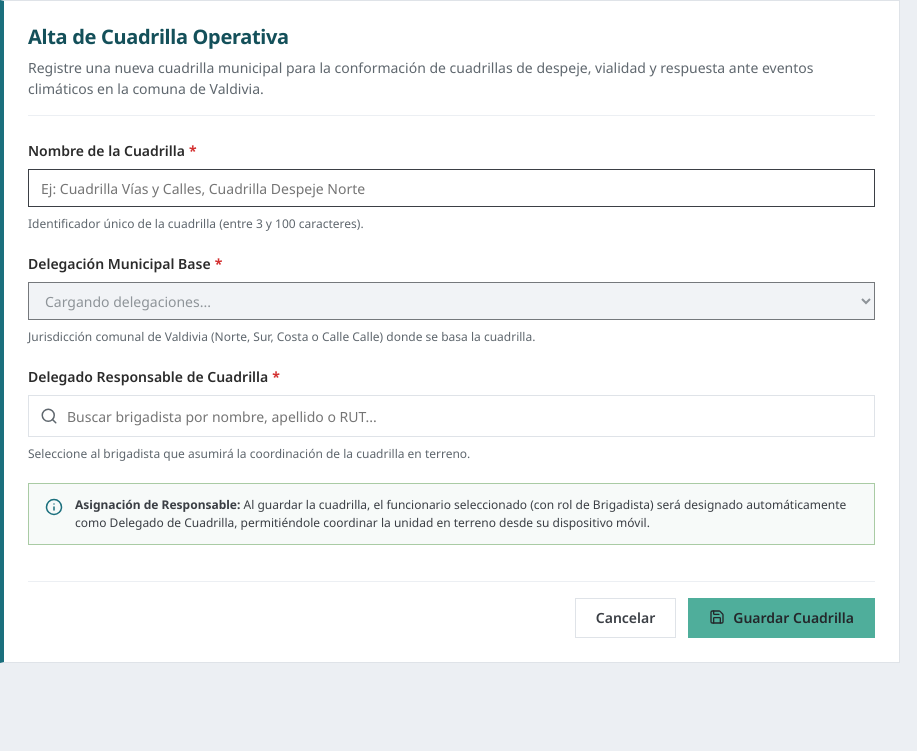
Test case: CuadrillaForm (H79) › debe completar el flujo exitoso y mostrar la pantalla de confirmación con datos
Note: Ingresar nombre
Step 1. Type "Cuadrilla Vías y Calles" into the field labelled "Nombre de la Cuadrilla *" → point(452, 188), box [28, 169, 875, 207]
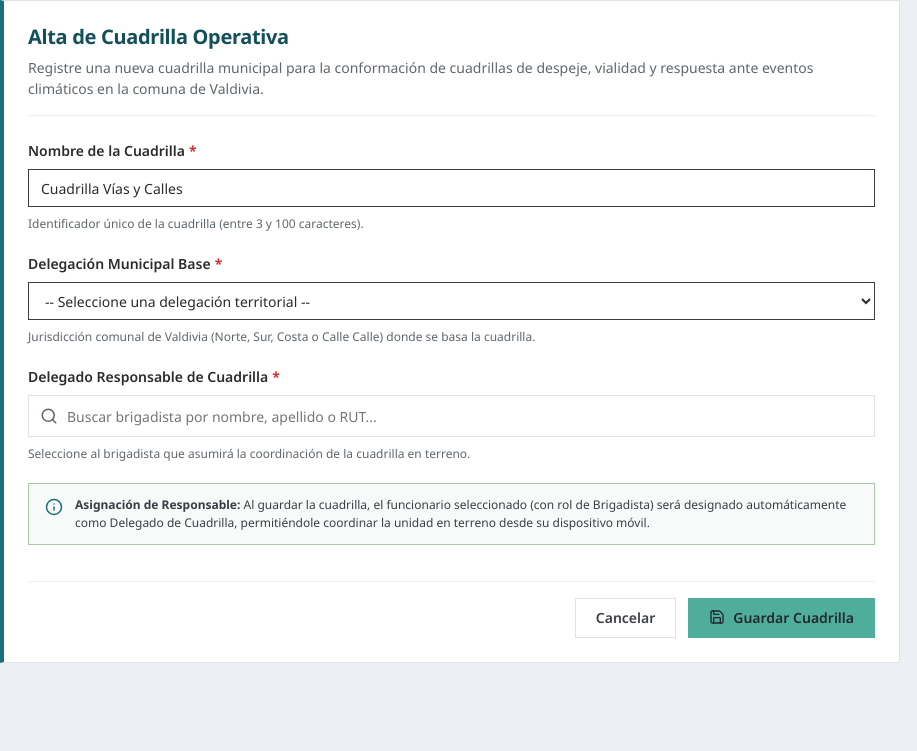
Step 2. Select "Calle Calle" in the dropdown labelled "Delegación Municipal Base *" → point(452, 301), box [28, 282, 875, 320]
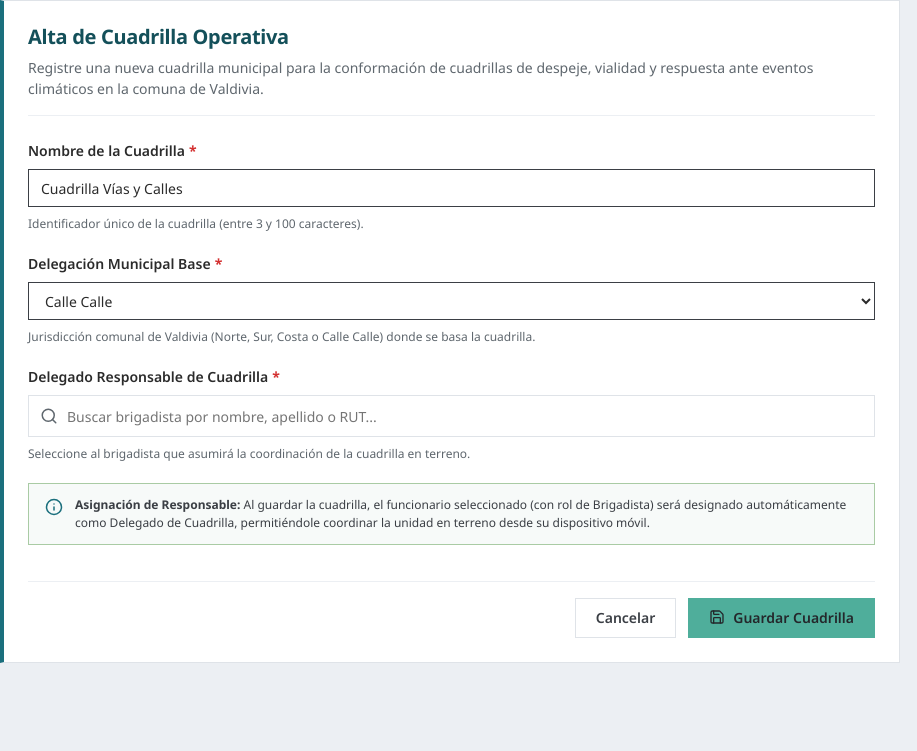
Note: Buscar y seleccionar delegado
Step 3. Type "Carlos" into the field with placeholder "Buscar brigadista por nombre, apellido o RUT..." → point(452, 416), box [28, 395, 875, 437]
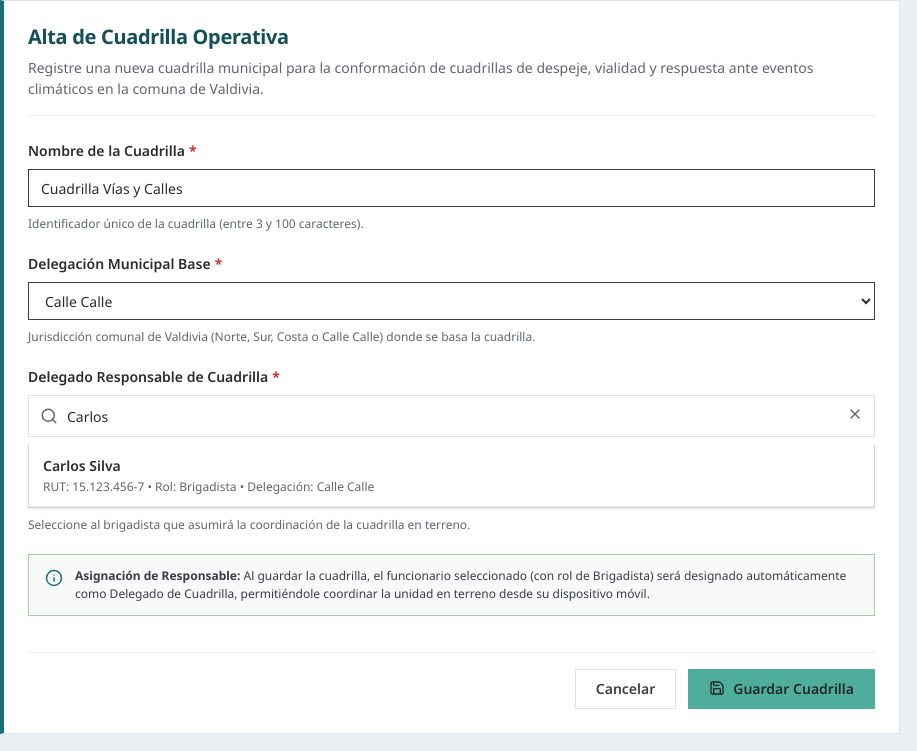
Step 4. Click the text "Carlos Silva" → point(82, 466), box [43, 456, 121, 475]
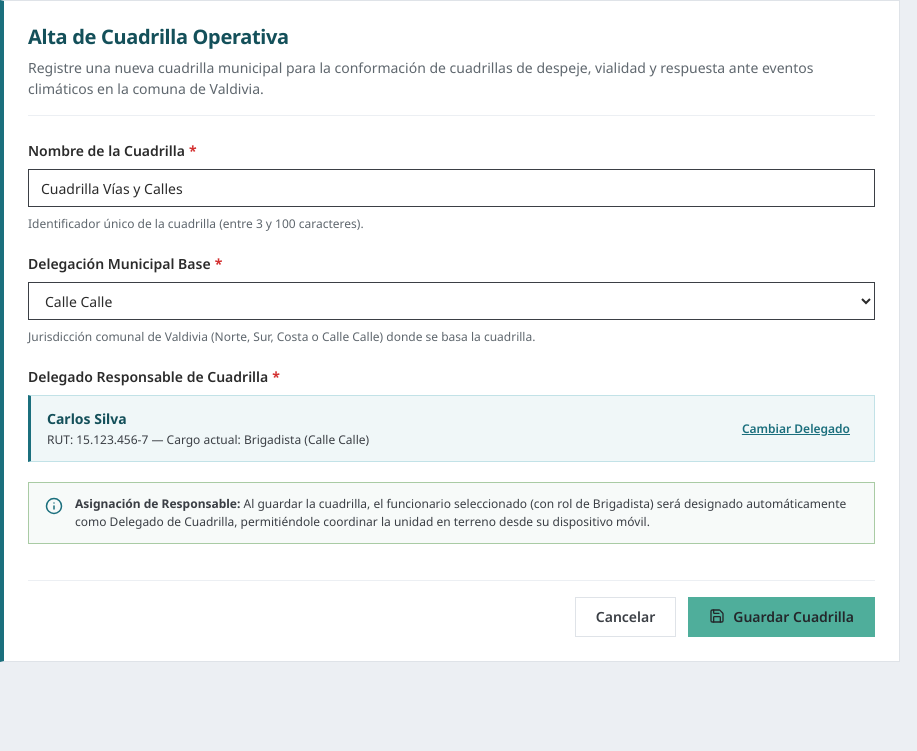
Note: Enviar formulario
Step 5. Click the button "Guardar Cuadrilla" → point(782, 617), box [688, 597, 875, 637]
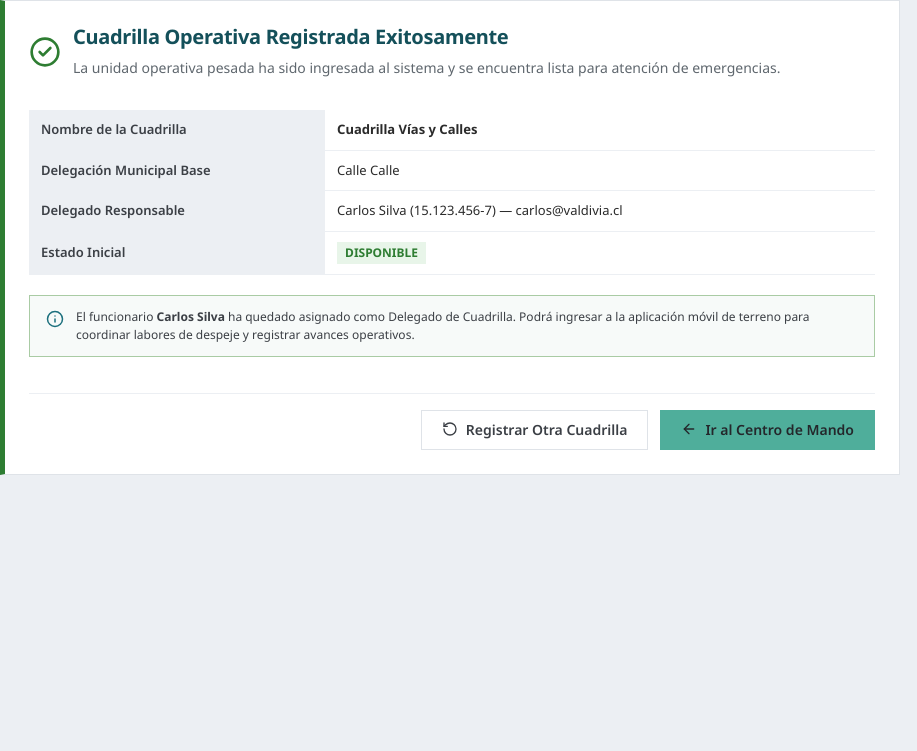
expect the heading "Cuadrilla Operativa Registrada Exitosamente" is shown: met, box [73, 23, 508, 50]
expect the text "Cuadrilla Vías y Calles" is shown: met, box [337, 120, 478, 138]
expect the text "DISPONIBLE" is shown: met, box [337, 242, 426, 264]
